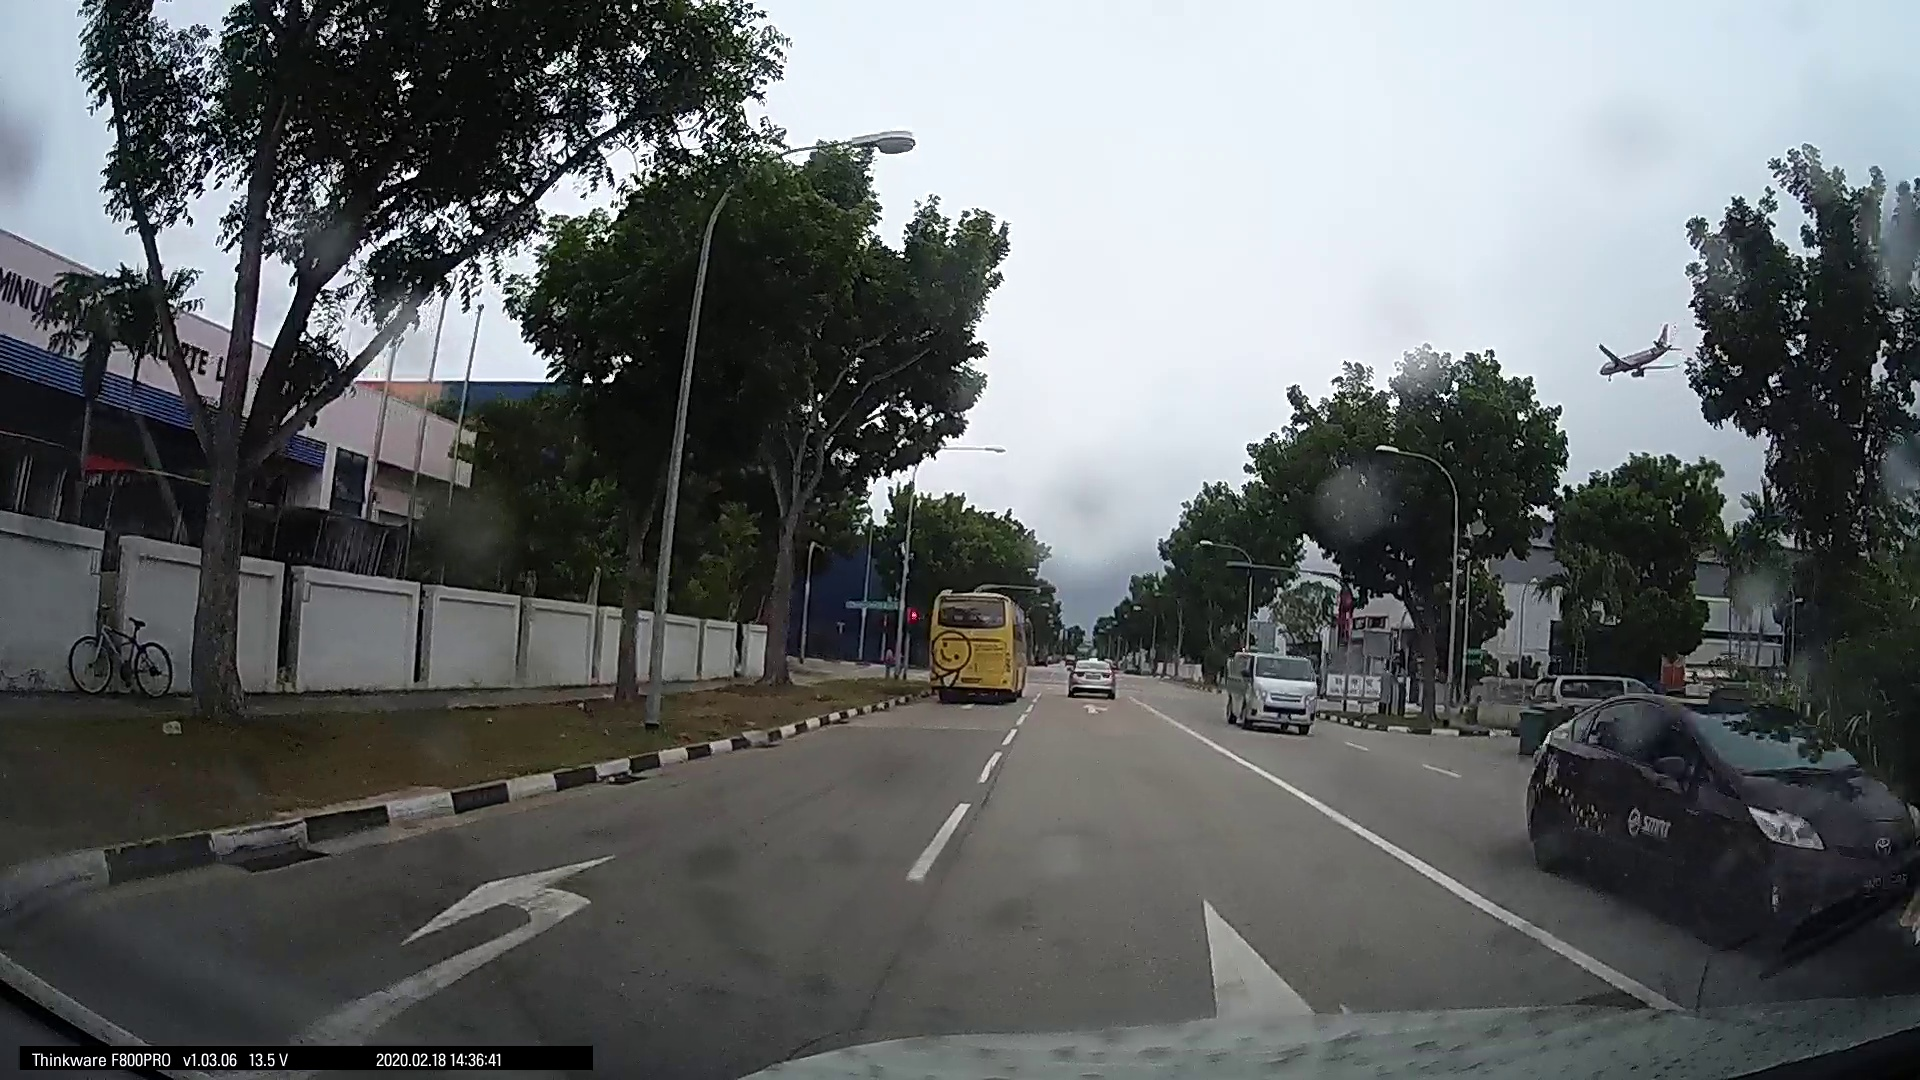Heavy Vehicle: (923, 585, 1029, 708), (1218, 642, 1317, 733)
Light Vehicle: (1515, 673, 1909, 953), (1062, 649, 1116, 699)
